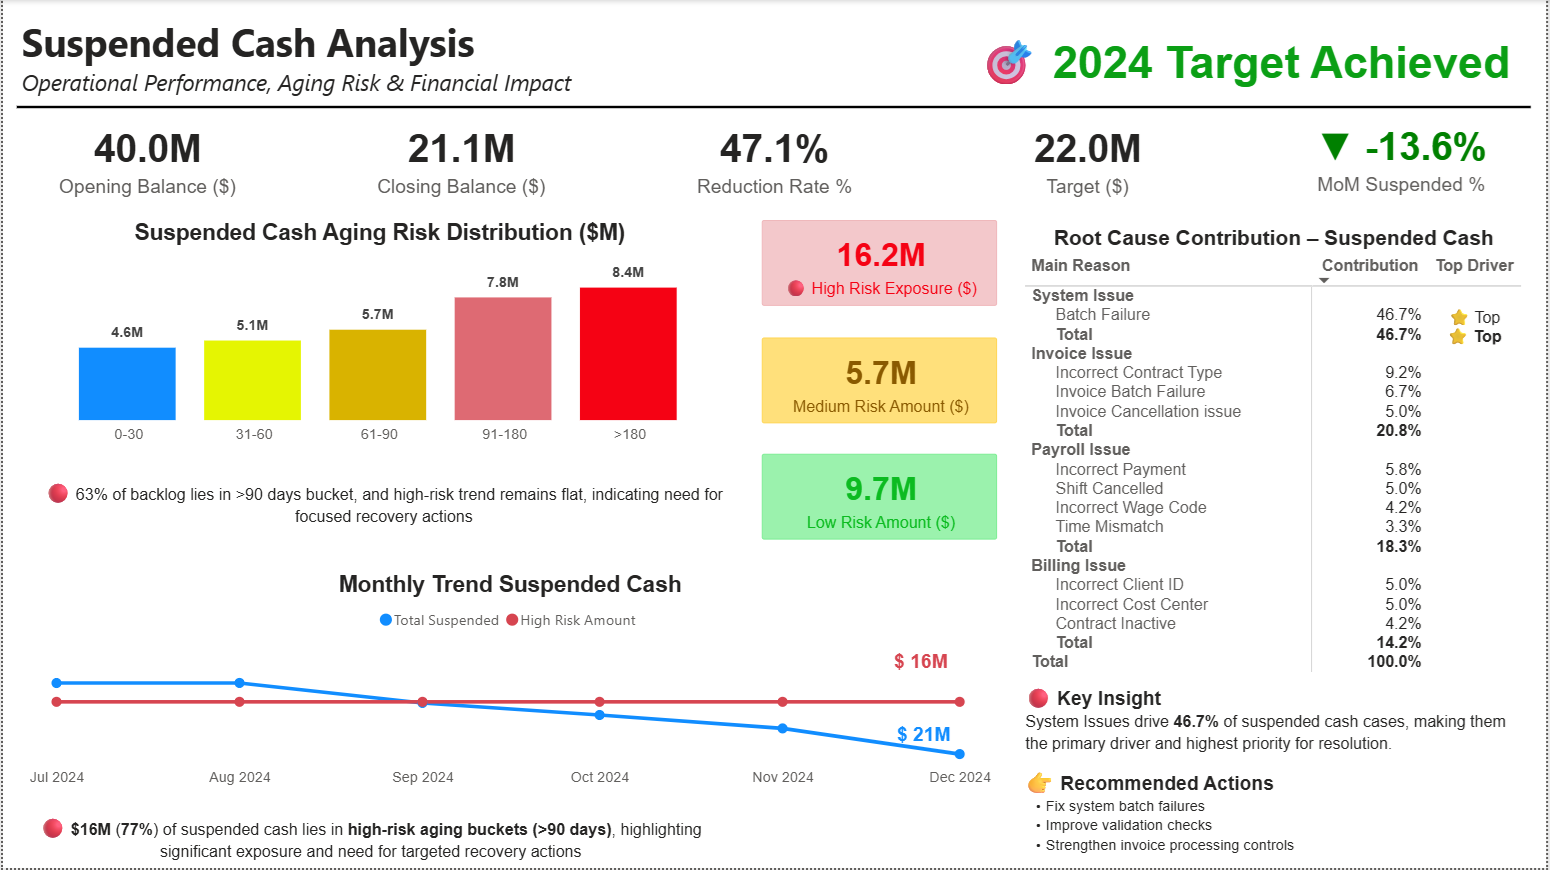

The page's visual inventory and layout, read from the dashboard file:
{"tool":"powerbi","page":{"name":"Suspended Cash Analysis","canvas":[1280,720],"ordinal":4},"visuals":[{"type":"textbox","box":[10.5,8.1,481.4,86],"z":0},{"type":"card","fields":{"Values":["Measures folder.High Risk Amount"]},"box":[641.7,190.7,195.3,70.9],"z":1000},{"type":"card","fields":{"Values":["Measures folder.Medium Risk Amount"]},"box":[641.7,287.8,195.3,70.9],"z":2000},{"type":"card","fields":{"Values":["Measures folder.Low Risk Amount"]},"box":[641.7,384.9,195.3,70.9],"z":3000},{"type":"card","fields":{"Values":["Measures folder.Closing Balance"]},"box":[274.9,101.1,211.2,75.8],"z":4000},{"type":"card","fields":{"Values":["Measures folder.Opening Balance"]},"box":[14.9,101.1,211.2,75.8],"z":5000},{"type":"clusteredColumnChart","title":"Suspended Cash Aging Risk Distribution ($M)","fields":{"Category":["Suspended_cash_data.Aging Bucket"],"Y":["Measures folder.Aging Amount"]},"box":[16.3,190.7,591.9,194.2],"z":6000},{"type":"textbox","box":[16.3,400,598.8,50],"z":7000},{"type":"card","fields":{"Values":["Measures folder.Target Status"]},"box":[794.1,7.4,471.4,86.2],"z":8000},{"type":"card","fields":{"Values":["Measures folder.Resolution Rate %"]},"box":[534.9,101.4,210.5,75.6],"z":9000},{"type":"card","fields":{"Values":["Measures folder.Target"]},"box":[794.3,101.1,211.2,75.8],"z":10000},{"type":"card","fields":{"Values":["Measures folder.WoW Suspended Display"]},"box":[1054.3,98.1,211.2,78.8],"z":11000},{"type":"group","id":"g1","title":"Group 1","box":[16.3,482.7,847.7,187.2],"z":12000},{"type":"lineChart","title":"Monthly Trend Suspended Cash","fields":{"Category":["Fact_Suspended_Summary.Month_Date"],"Y":["Measures folder.Total Suspended"],"Y2":["Measures folder.High Risk Amount"]},"box":[16.3,482.7,847.7,187.2],"z":12000,"group":"g1"},{"type":"textbox","box":[756.7,604,86,37.2],"z":13000,"group":"g1"},{"type":"textbox","box":[16.3,673.3,847.7,34.9],"z":13000},{"type":"textbox","box":[757,543.2,84.9,34.9],"z":14000,"group":"g1"},{"type":"card","fields":{"Values":["Measures folder.High Risk %"]},"box":[967.4,577.9,195.3,112.8],"z":14000},{"type":"pivotTable","title":"Drivers of Suspended Cash by Root Cause","fields":{"Rows":["Suspended_cash_data.Main Reason","Suspended_cash_data.Sub Reason"],"Values":["Measures folder.Closing Balance final"]},"box":[864,190.7,401.2,352.3],"z":15000}]}

Visuals, with their boxes in screenshot pixels (x1, y1, x2, y2), scaled from the page's 1280x720 canvas onto the 1550x870 screenshot:
textbox: <box>13,10,596,114</box>
card - Measures folder.High Risk Amount: <box>777,230,1014,316</box>
card - Measures folder.Medium Risk Amount: <box>777,348,1014,433</box>
card - Measures folder.Low Risk Amount: <box>777,465,1014,551</box>
card - Measures folder.Closing Balance: <box>333,122,589,214</box>
card - Measures folder.Opening Balance: <box>18,122,274,214</box>
"Suspended Cash Aging Risk Distribution ($M)" clusteredColumnChart: <box>20,230,736,465</box>
textbox: <box>20,483,745,544</box>
card - Measures folder.Target Status: <box>962,9,1532,113</box>
card - Measures folder.Resolution Rate %: <box>648,123,903,214</box>
card - Measures folder.Target: <box>962,122,1218,214</box>
card - Measures folder.WoW Suspended Display: <box>1277,119,1532,214</box>
"Group 1" group: <box>20,583,1046,809</box>
"Monthly Trend Suspended Cash" lineChart: <box>20,583,1046,809</box>
textbox: <box>916,730,1020,775</box>
textbox: <box>20,814,1046,856</box>
textbox: <box>917,656,1019,699</box>
card - Measures folder.High Risk %: <box>1171,698,1408,835</box>
"Drivers of Suspended Cash by Root Cause" pivotTable: <box>1046,230,1532,656</box>
